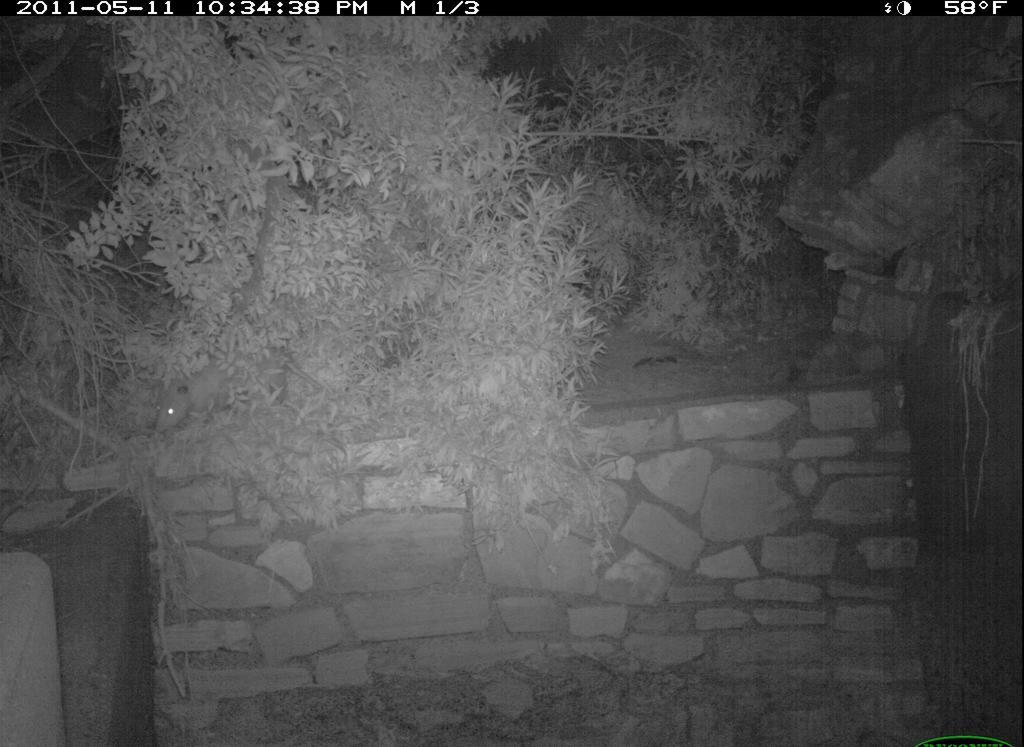opossum: (150, 341, 336, 437)
